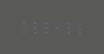five: (17, 19, 27, 33), (62, 20, 72, 34)
four: (51, 19, 61, 34)
nine: (40, 19, 50, 33)
six: (73, 20, 83, 34)
two: (28, 19, 38, 33)
